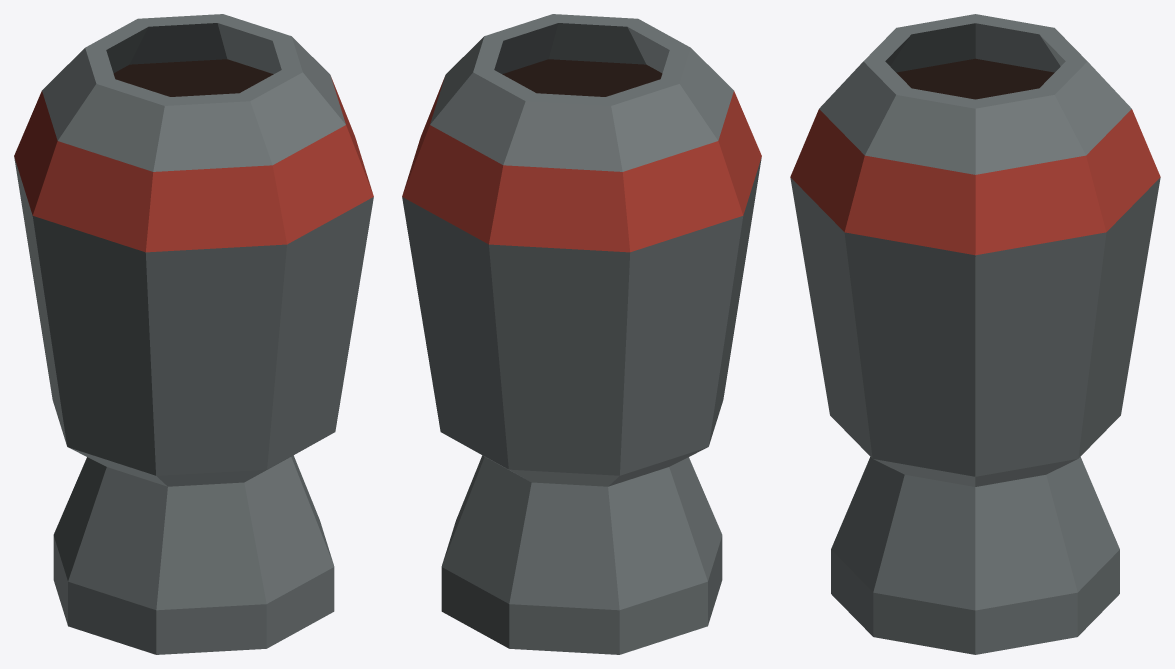
File: vase_2.fbx
The picture shows the model from 3 angles, left to right: view 1: azimuth 30°, elevation 25°; view 2: azimuth 150°, elevation 25°; view 3: azimuth 270°, elevation 25°; orthographic projection.
Parts seen in each view (by area): view 1: vase2; view 2: vase2; view 3: vase2.
Boxes of the visible parts, bbox=[...] form: vase2: bbox=[14, 14, 373, 654]; vase2: bbox=[402, 14, 761, 654]; vase2: bbox=[790, 14, 1160, 654].
Size of the model in its own units: 54.48 by 86.41 by 54.48.
